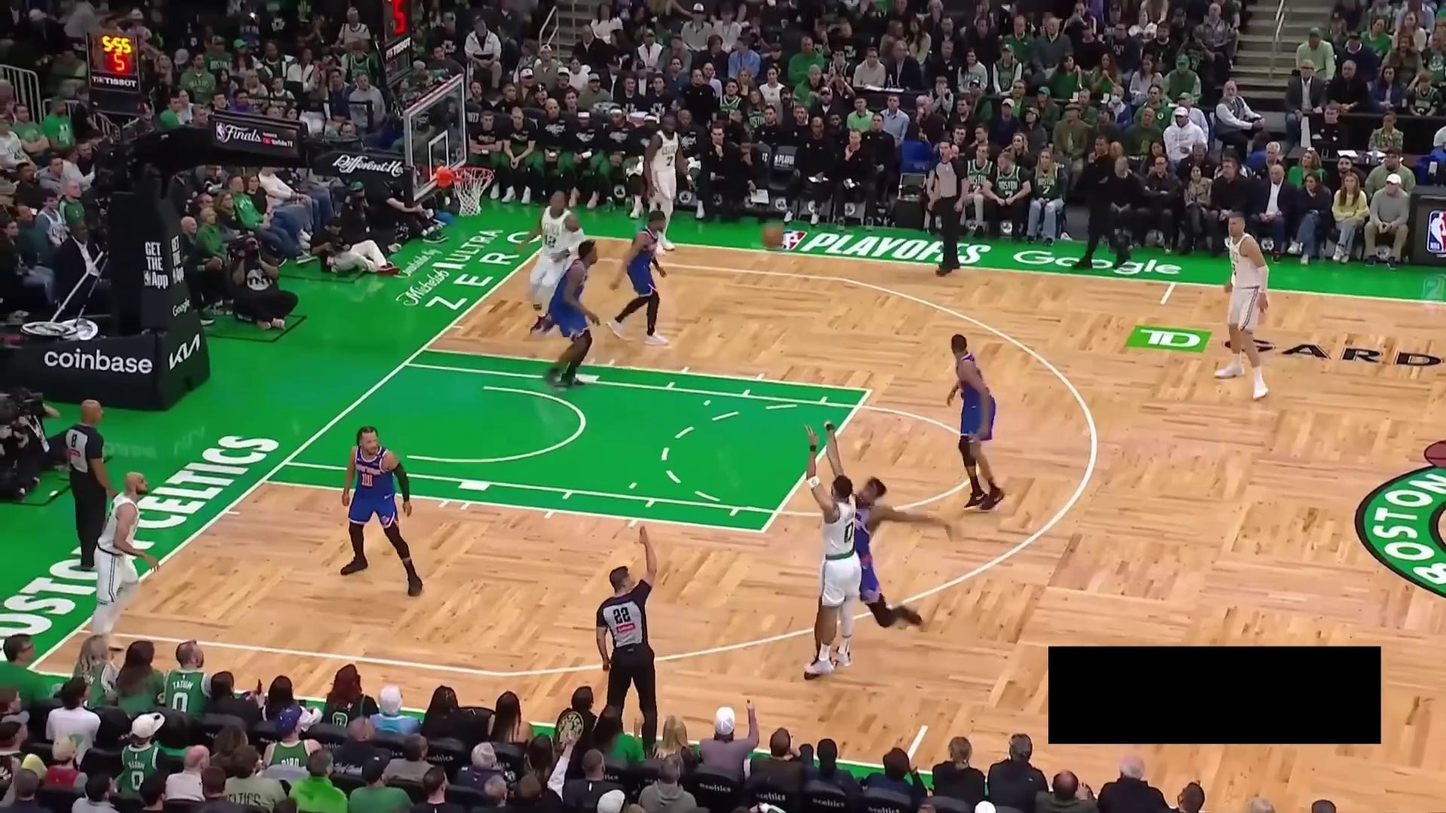ball: (760, 224, 784, 248)
number: (541, 232, 557, 250), (842, 521, 854, 544), (360, 472, 374, 487), (665, 154, 674, 167)
player: (338, 426, 425, 595), (84, 467, 160, 651), (1209, 206, 1277, 406), (940, 328, 1010, 511), (538, 235, 604, 388), (603, 207, 671, 346), (524, 186, 586, 335), (641, 109, 698, 254)
player-jump-shot: (797, 412, 864, 678)
player-shot-block: (803, 411, 952, 683)
referee: (588, 517, 664, 745), (49, 398, 123, 571), (923, 135, 973, 280)
rim: (447, 163, 497, 183)
